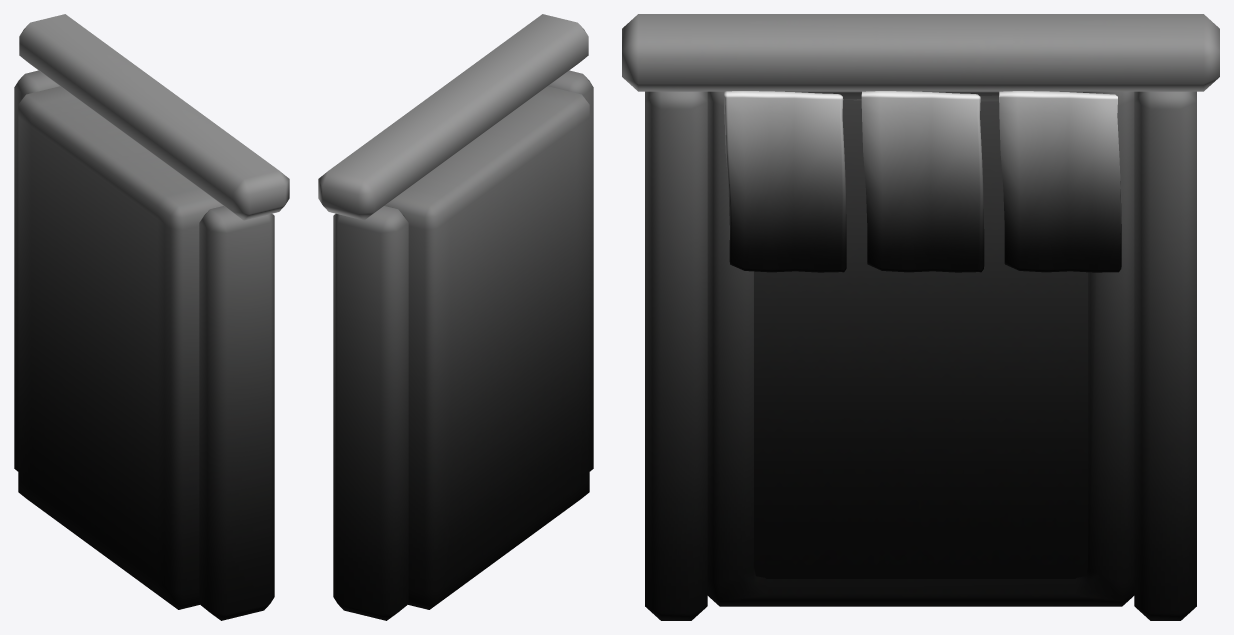
Rendered from SM_Wood_Door_04.fbx.
3 renders of one model, left to right at view 1: azimuth 30°, elevation 25°; view 2: azimuth 150°, elevation 25°; view 3: azimuth 270°, elevation 25°, orthographic. The views are drawn at different scales.
Visible parts, largest first — view 1: SM_Wood_Door_04; view 2: SM_Wood_Door_04; view 3: SM_Wood_Door_04.
Boxes of the visible parts, x1,y1,x2,y2 form: SM_Wood_Door_04: [14, 14, 289, 620]; SM_Wood_Door_04: [318, 14, 593, 620]; SM_Wood_Door_04: [622, 14, 1219, 620].
Bounding box in the file's own units: 0.1268 × 0.5784 × 0.5324.
